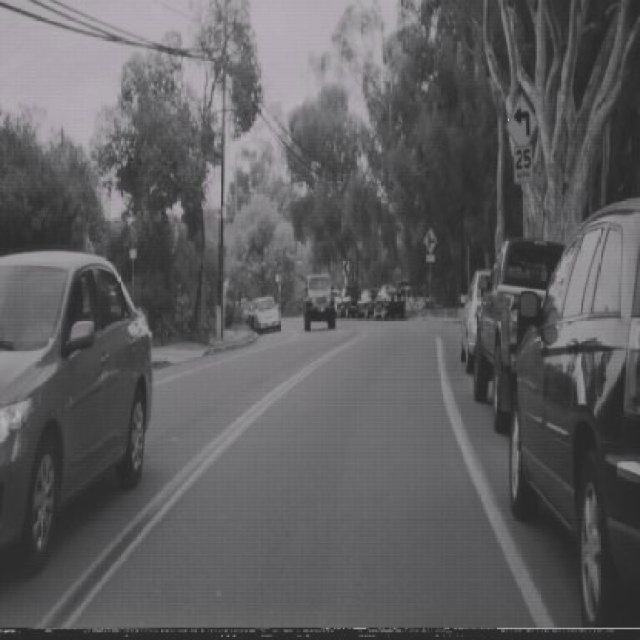turnLeft: (505, 91, 538, 154)
